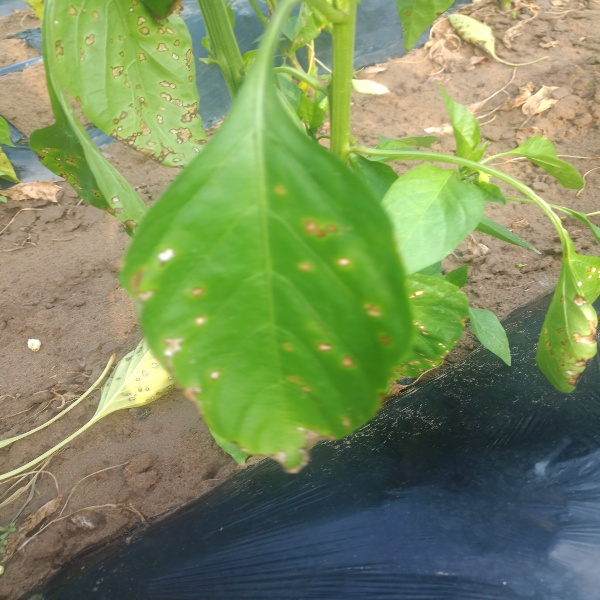Anthrax: (128, 122, 413, 475), (42, 1, 208, 163), (24, 122, 139, 237), (392, 273, 467, 385), (538, 259, 600, 394)
